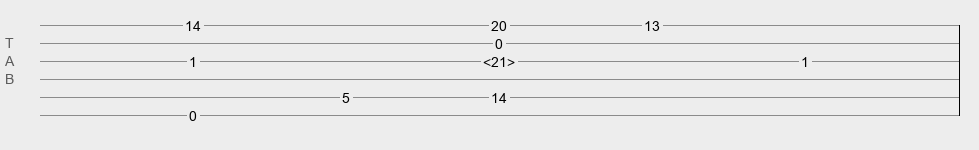0: (189, 108, 197, 118), (495, 36, 503, 46)
1: (189, 54, 197, 64), (801, 54, 809, 64)
13: (644, 18, 660, 28)
14: (185, 18, 201, 28), (491, 90, 507, 100)
20: (491, 18, 507, 28)
5: (342, 90, 350, 100)
harmonic: (483, 54, 515, 64)
